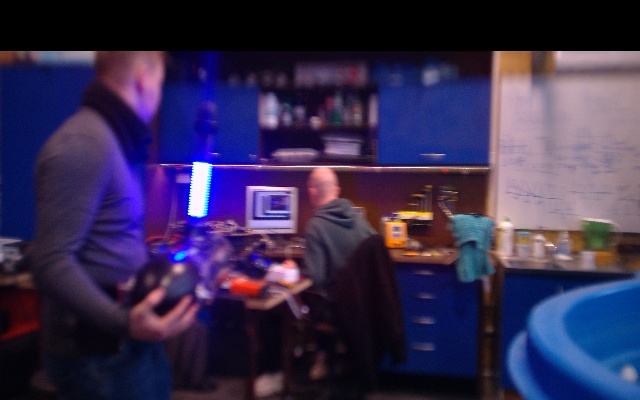blue: (188, 161, 213, 219)
